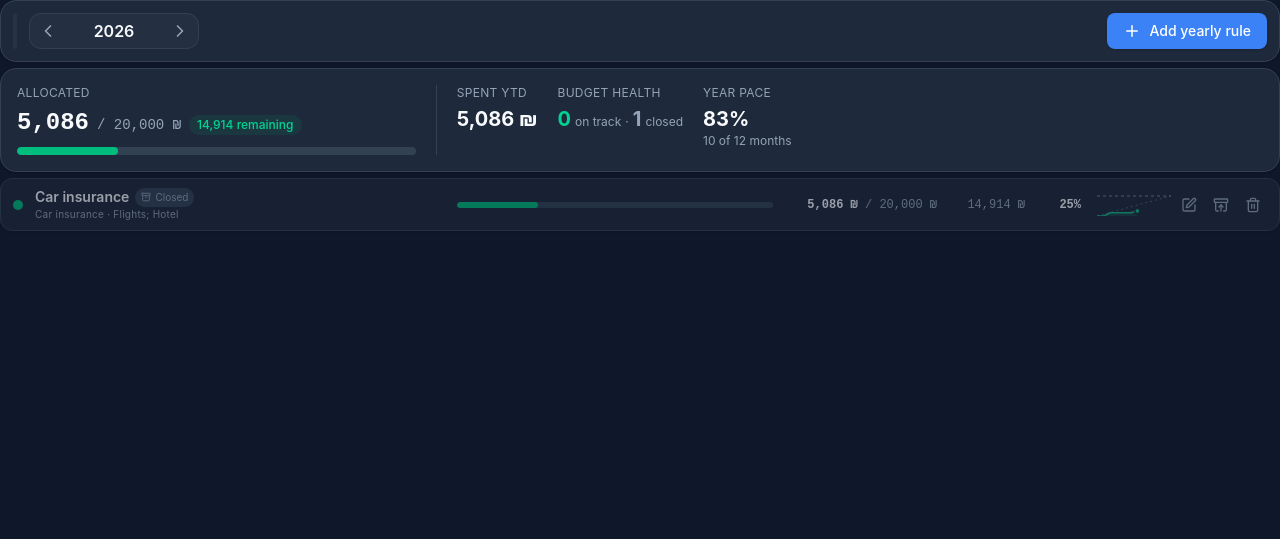
it: YearlyBudgetView › related transactions › lists a closed rule's transactions too — closing keeps the history
Click the button named "01.26 0 ₪ · 02.26 0 ₪ · 03.26 3.2K ₪ · 04.26 3.2K ₪": coordinates (592, 204) [13,179,1171,230]
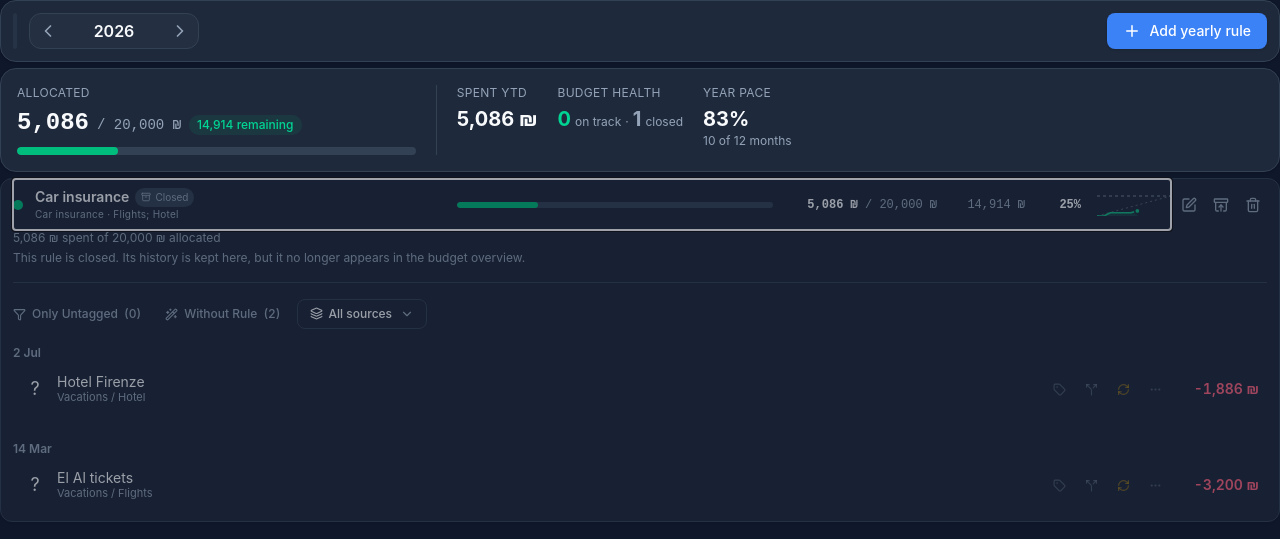
Expected: the text "El Al tickets" is shown, [57,469,133,486]
Expected: the text with test id "yearly-closed-notice" is shown, [13,250,525,265]
